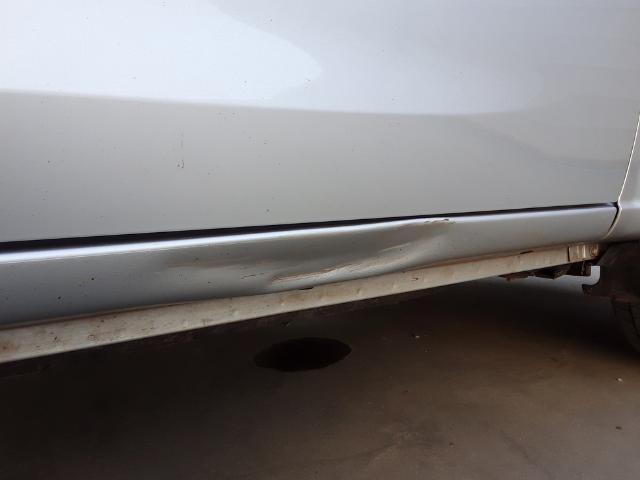Door: (112, 206, 473, 318)
